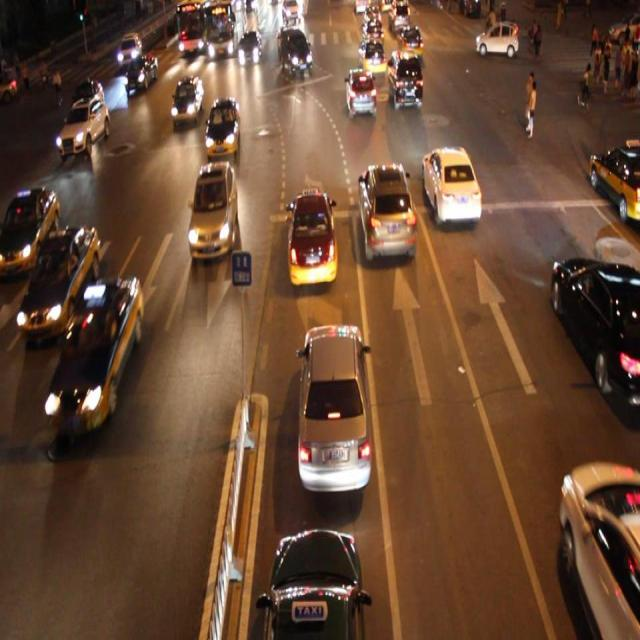car: (558, 458, 640, 640), (47, 274, 142, 431), (550, 253, 640, 407), (298, 322, 370, 491), (264, 527, 364, 640), (22, 222, 98, 337), (358, 164, 416, 263), (420, 145, 481, 226), (287, 187, 337, 285), (186, 163, 237, 259), (1, 185, 58, 269), (586, 138, 640, 220), (59, 98, 108, 157), (385, 48, 423, 110), (206, 97, 240, 157), (278, 25, 314, 76), (344, 67, 375, 116), (172, 74, 202, 124), (126, 54, 158, 92), (70, 81, 104, 113), (357, 37, 385, 74)
